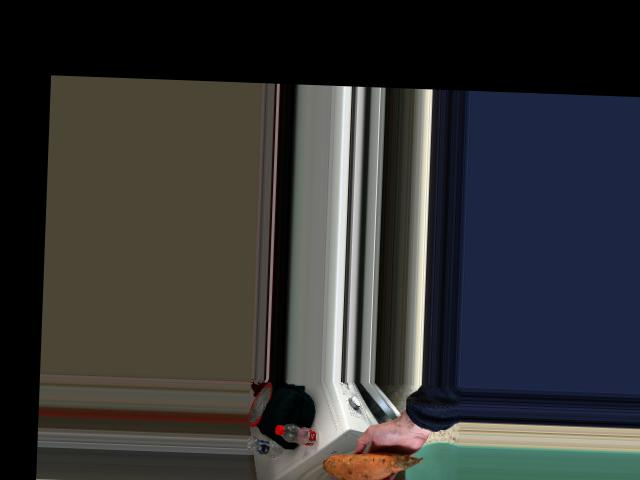sweet_potato: (330, 448, 417, 477)
